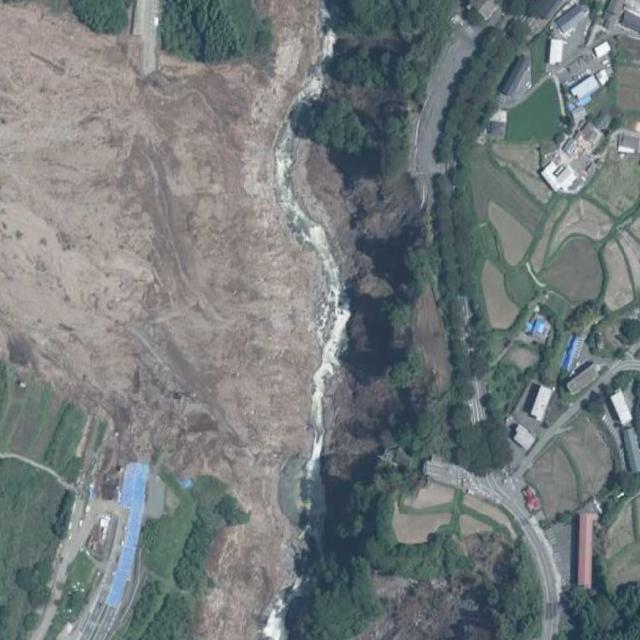landslide: (0, 1, 321, 639)
